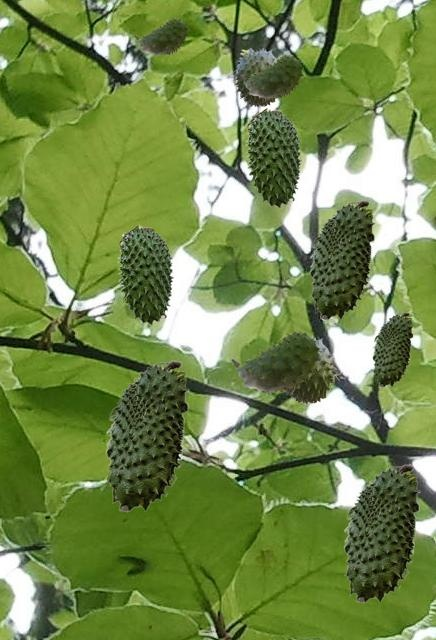guyabano: (105, 360, 188, 511), (343, 464, 419, 602), (309, 200, 374, 319), (231, 331, 320, 395), (117, 224, 173, 324), (245, 107, 301, 207), (285, 335, 342, 403), (372, 312, 412, 386), (240, 55, 303, 100), (230, 47, 276, 106), (134, 18, 188, 56)
